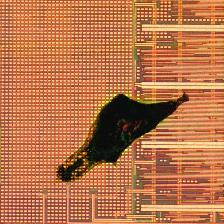PARTICLE: (56, 93, 192, 186)
